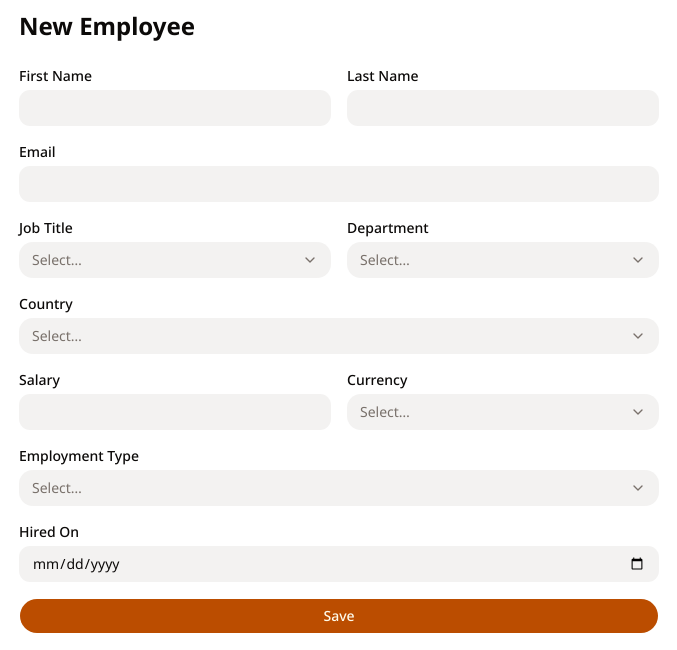
it: NewEmployeePage › renders the employee form with job titles and departments loaded
The image size is (677, 650).
Click the dropdown named "job title". click: (57, 260)
box: [19,242,331,278]
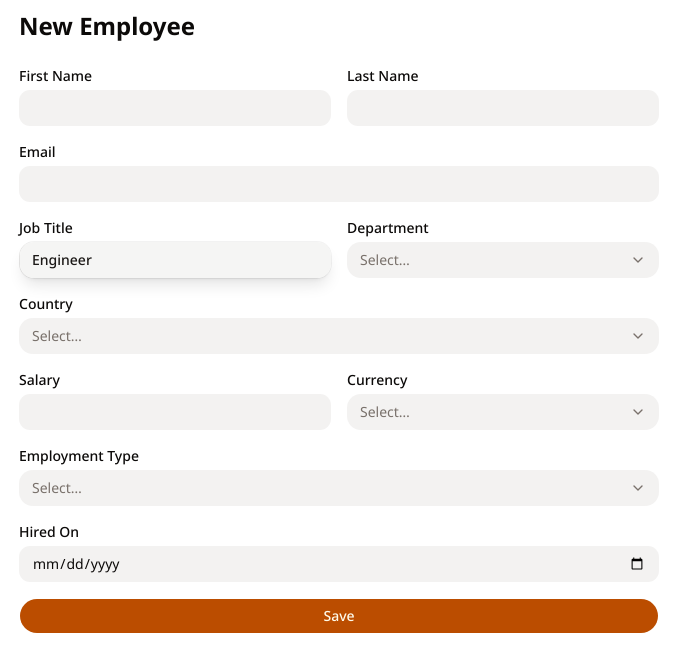
Now the option "Engineer" is shown, box [20,242,331,278]
close by pressing Escape
Press Escape
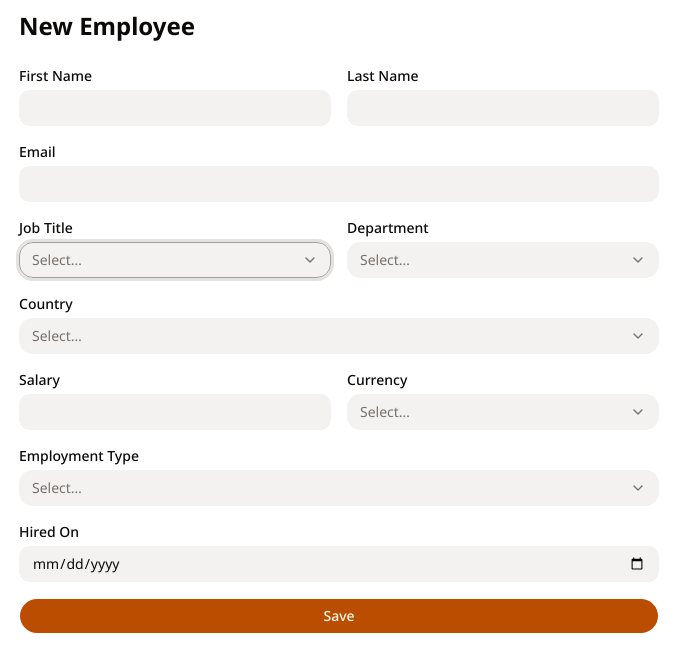
Click the dropdown named "department". click: (385, 260)
box: [347,242,659,278]
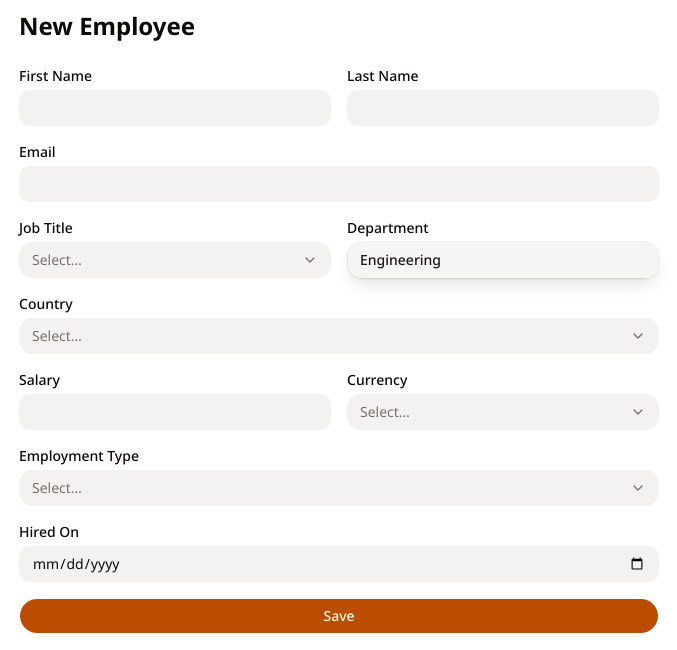
Now the option "Engineering" is shown, box [348,242,659,278]
